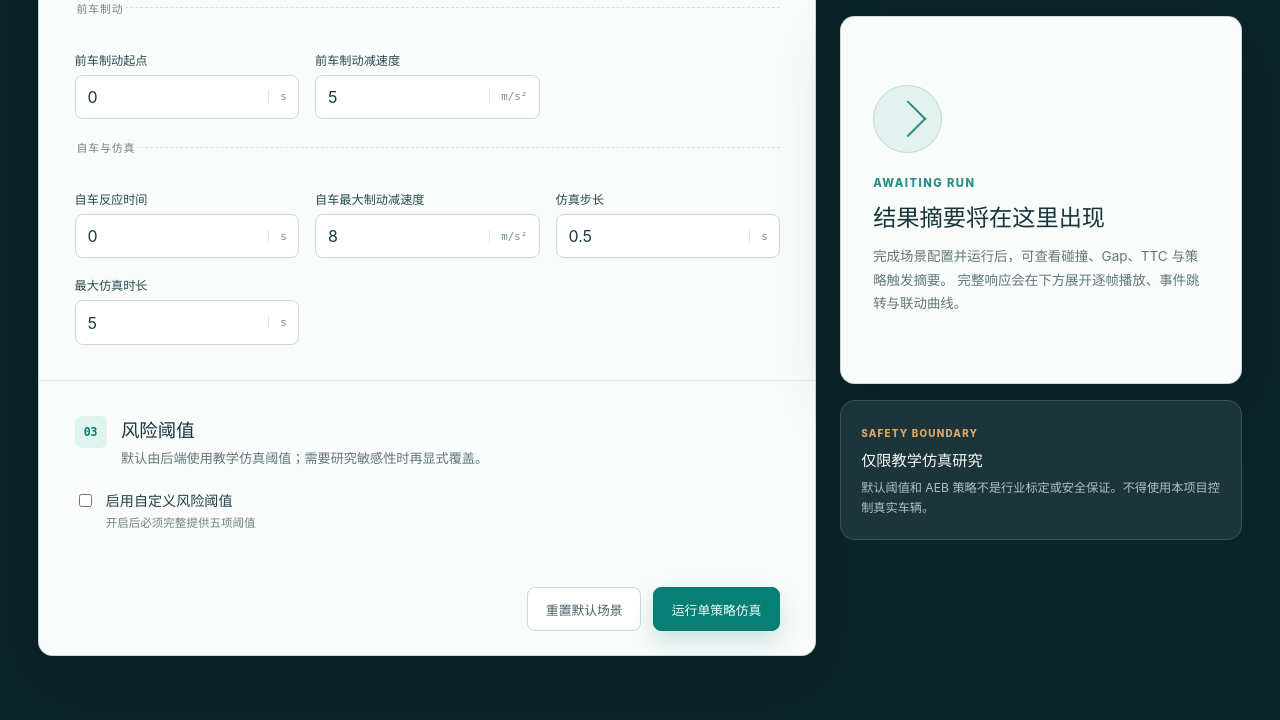
Dashboard configuration workflow › keeps manual configuration usable when preset loading fails
The image size is (1280, 720).
(page scrolled)
Click the button "运行单策略仿真".
click(717, 609)  # box [653,587,780,632]
(page scrolled)
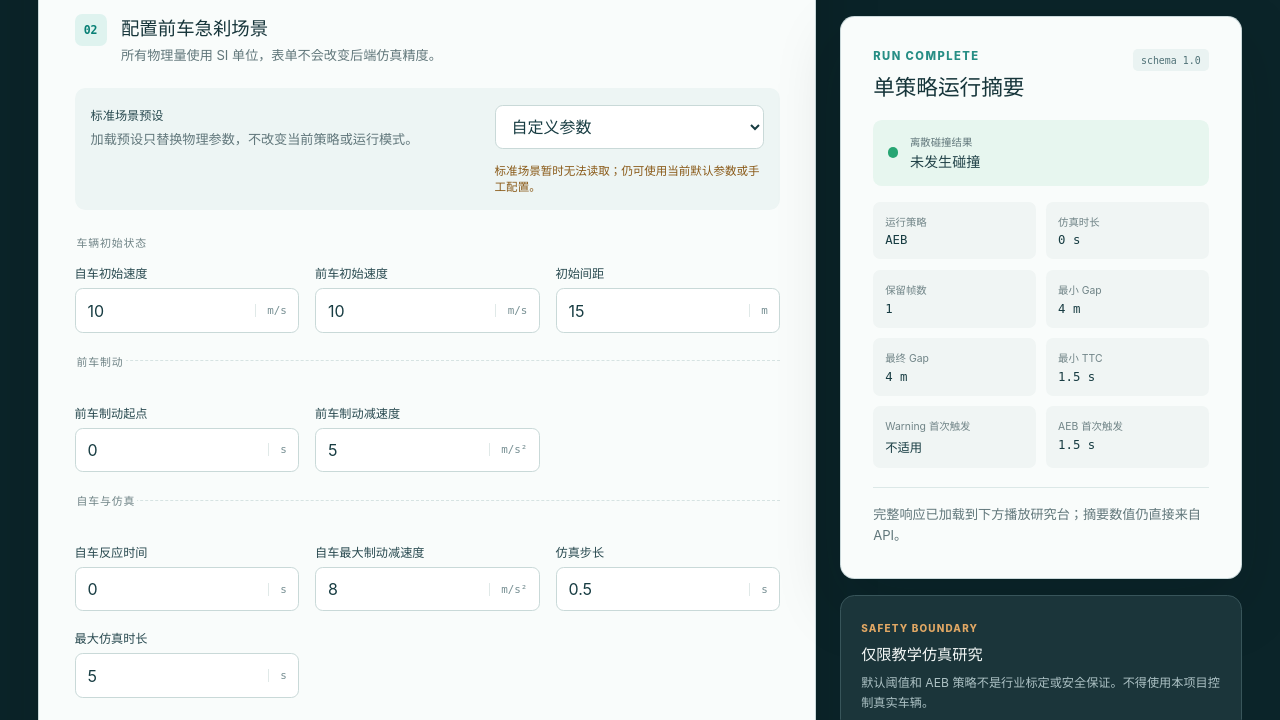
Result: the heading "单策略运行摘要" is shown at [873,69,1024,100]
